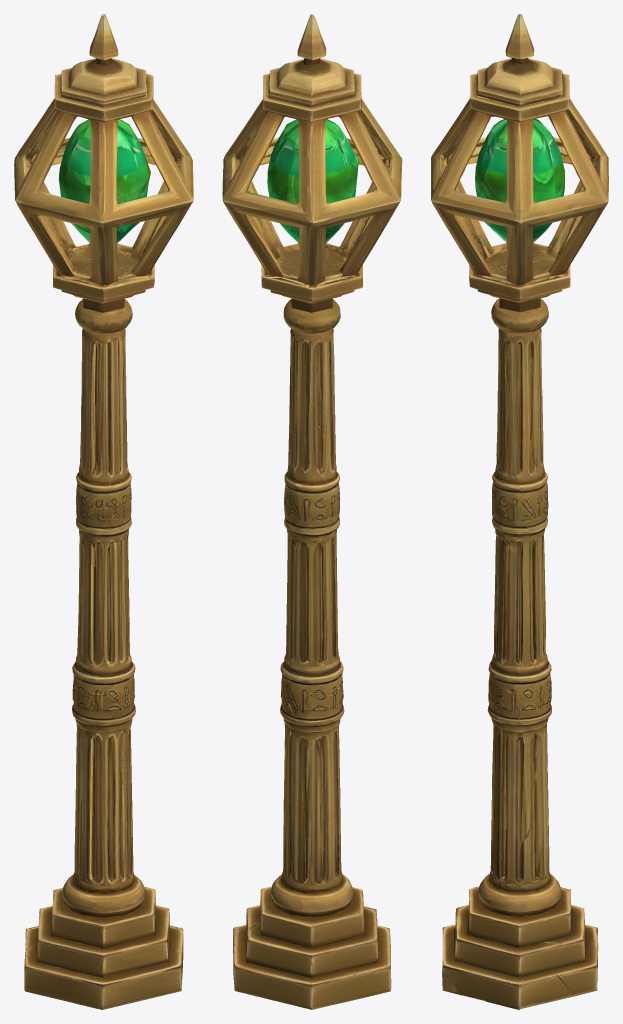
Rendered from et_lamppost.glb.
3 renders of one model, left to right at view 1: azimuth 30°, elevation 25°; view 2: azimuth 150°, elevation 25°; view 3: azimuth 270°, elevation 25°, orthographic.
Bounding box in the file's own units: 0.3654 × 1.9 × 0.3195.
1 material, 1 textured.
